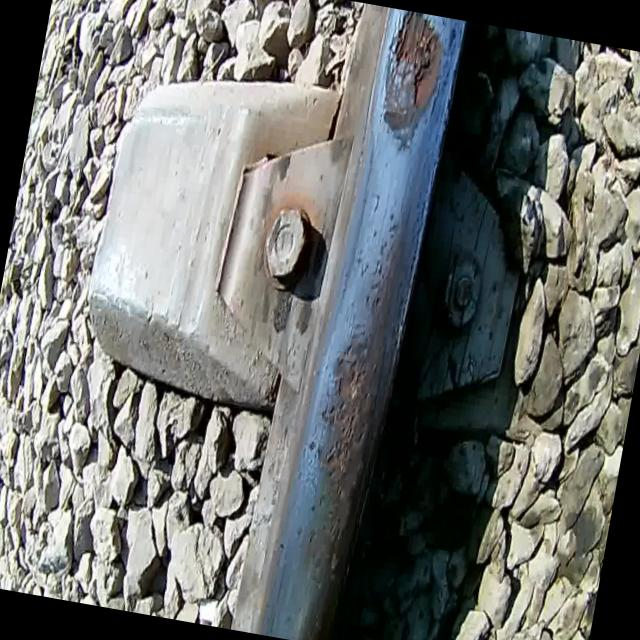Cracks: (295, 619, 329, 640)
Spallings: (307, 332, 384, 486), (382, 9, 444, 118)
Squats: (279, 314, 393, 587), (365, 8, 462, 162)
